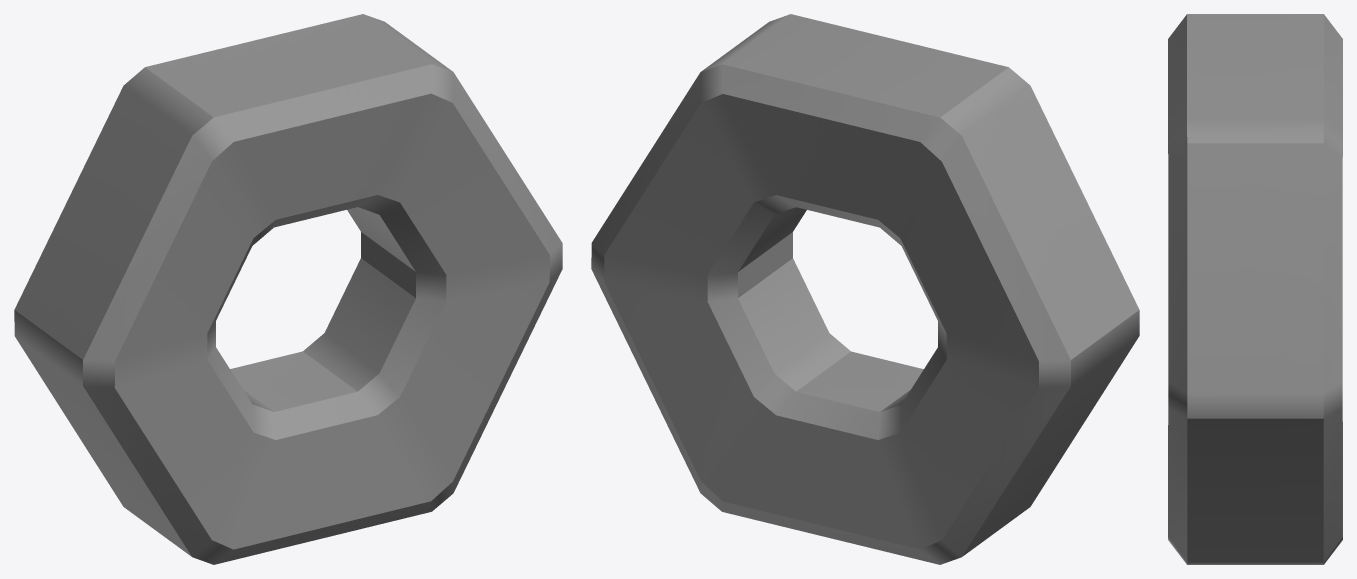
The model's file is Bolt.fbx.
The picture shows the model from 3 angles, left to right: view 1: azimuth 30°, elevation 25°; view 2: azimuth 150°, elevation 25°; view 3: azimuth 270°, elevation 25°; orthographic projection.
Visible parts, largest first — view 1: Bolt; view 2: Bolt; view 3: Bolt.
Boxes of the visible parts, x1,y1,x2,y2 form: Bolt: (14,14,562,564); Bolt: (591,14,1139,564); Bolt: (1168,14,1342,564).
Bounding box in the file's own units: 73.08 × 65.19 × 23.21.
